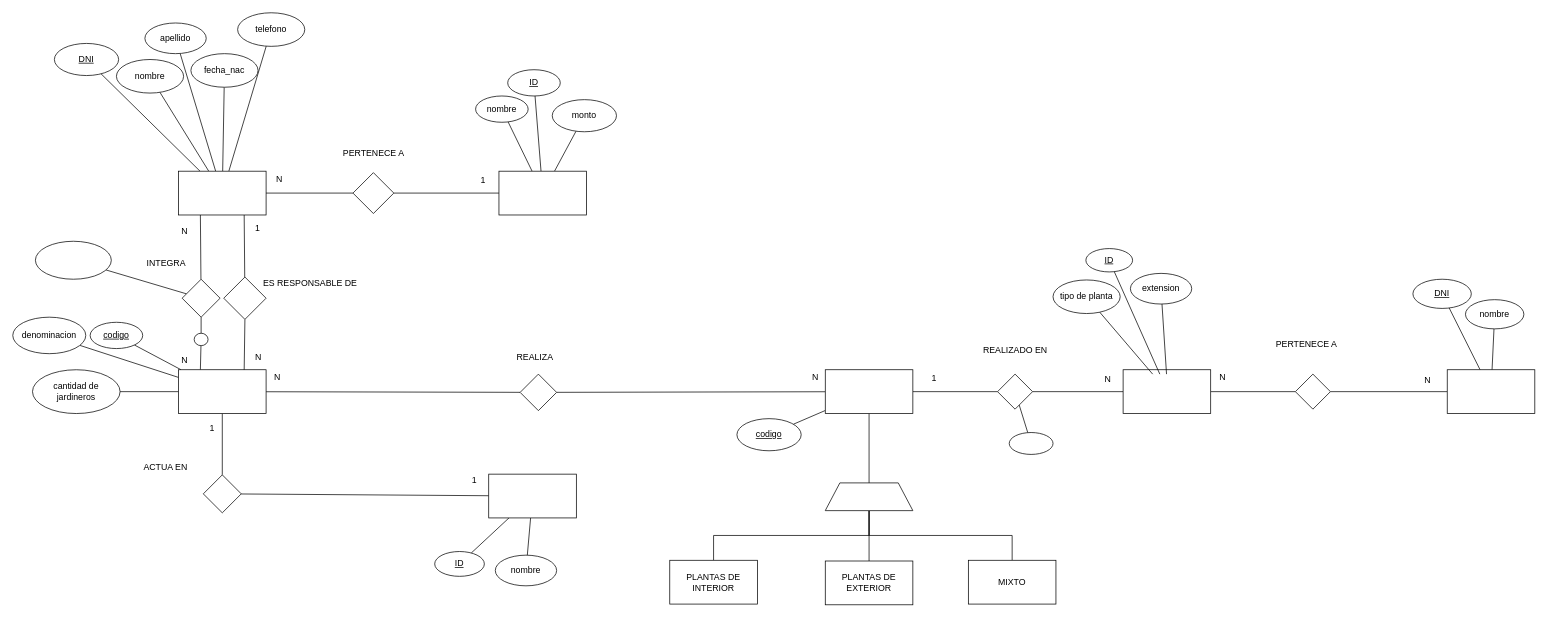
The diagram is 1548 pixels wide and 618 high, and some of its shapes have lost their labels. Each missing label, with the centre of its shape:
"CATEGORIA SALARIAL" belongs at point 542,192.
"CUADRILLA" belongs at point 222,391.
"fecha" belongs at point 1030,443.
"fecha de ingreso" belongs at point 73,260.
"JARDIN" belongs at point 1166,391.
"JARDINERO" belongs at point 222,192.
"PROPIETARIO" belongs at point 1490,391.
"TIPO" belongs at point 869,496.
"TRABAJO" belongs at point 869,391.
"ZONA" belongs at point 532,495.
